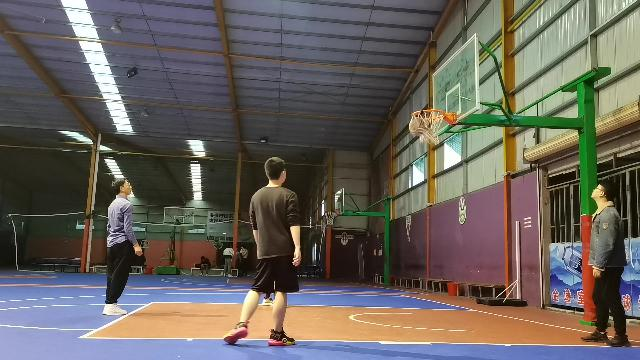basket: (411, 108, 445, 142), (324, 209, 336, 224)
goal: (408, 117, 426, 133)
